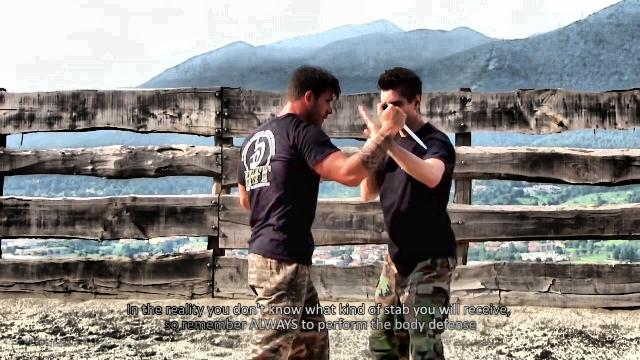knife: (376, 100, 428, 150)
